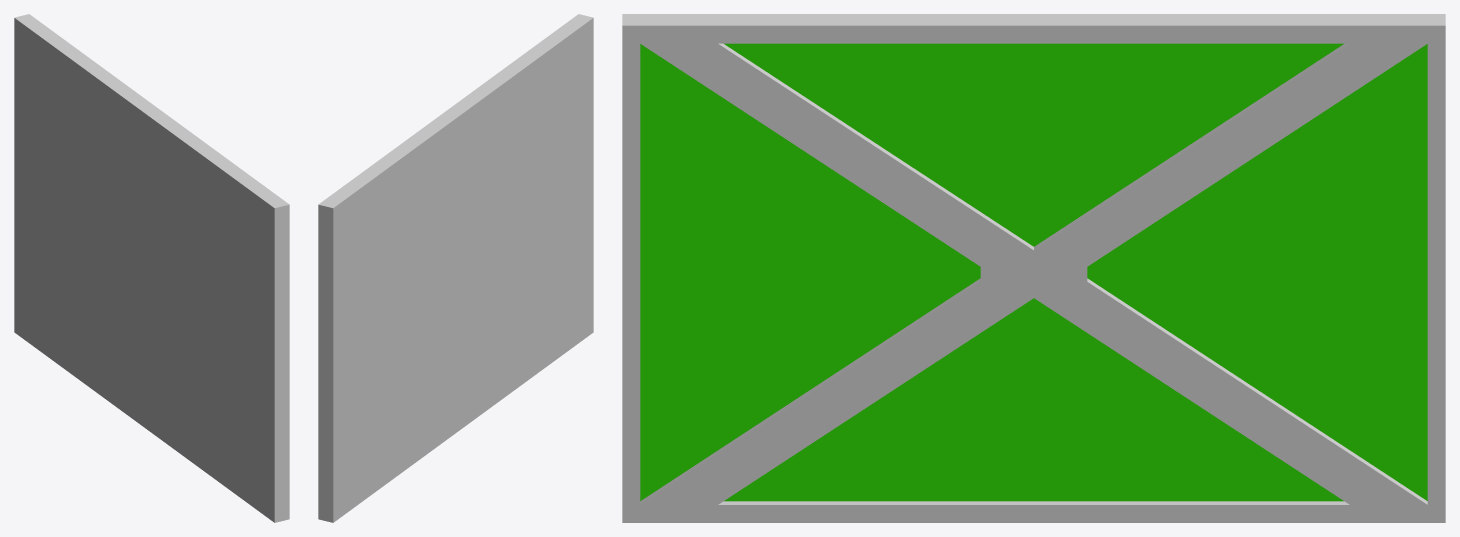
Rendered from Barred_Door.fbx.
3 views of the same model, side by side, from view 1: azimuth 30°, elevation 25°; view 2: azimuth 150°, elevation 25°; view 3: azimuth 270°, elevation 25° (orthographic). The views are drawn at different scales.
Visible parts, largest first — view 1: Barred Door; view 2: Barred Door; view 3: Barred Door.
Part boxes in pixels (bbox=[...]): Barred Door: bbox=[14, 14, 289, 522]; Barred Door: bbox=[318, 14, 593, 522]; Barred Door: bbox=[622, 14, 1445, 522].
Bounding box in the file's own units: 40 × 800 × 1200.
